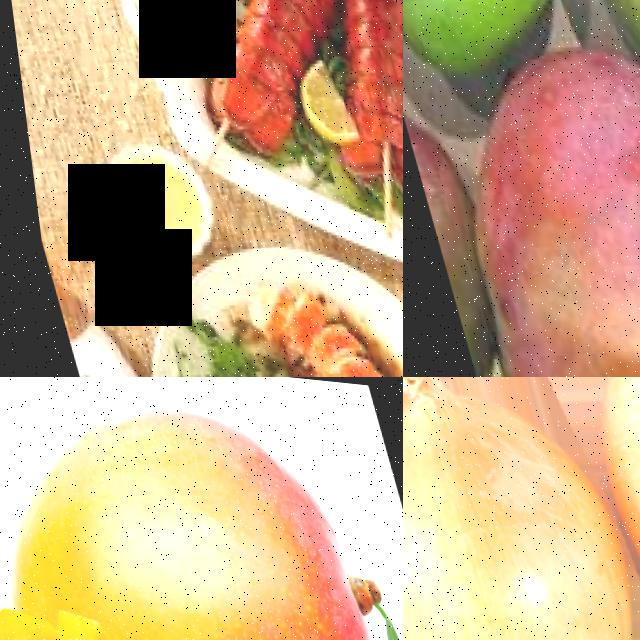lemon: (283, 45, 356, 142)
lobster tails: (316, 0, 403, 122)
mango: (407, 34, 640, 377), (124, 377, 403, 640), (403, 0, 609, 107)
onion: (403, 377, 640, 640), (542, 377, 640, 640)
